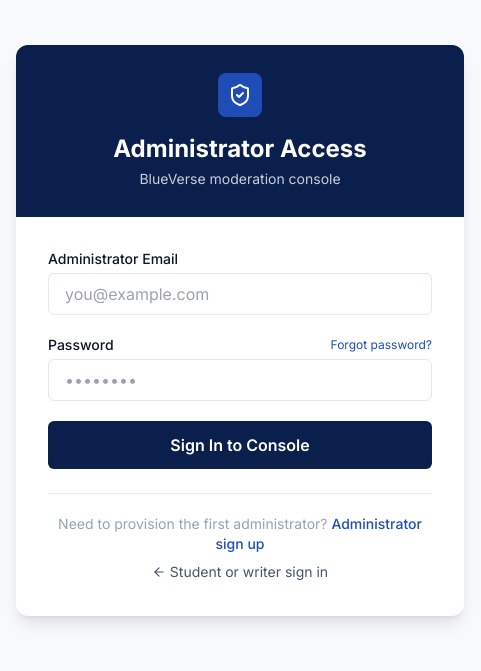
Test: AdminSignInPage › refuses to admit a student and drops the session
This screenshot has width=481, height=671.
Type "admin@example.com" into the field labelled "Administrator Email" at [240, 294], box [48,272,432,314]
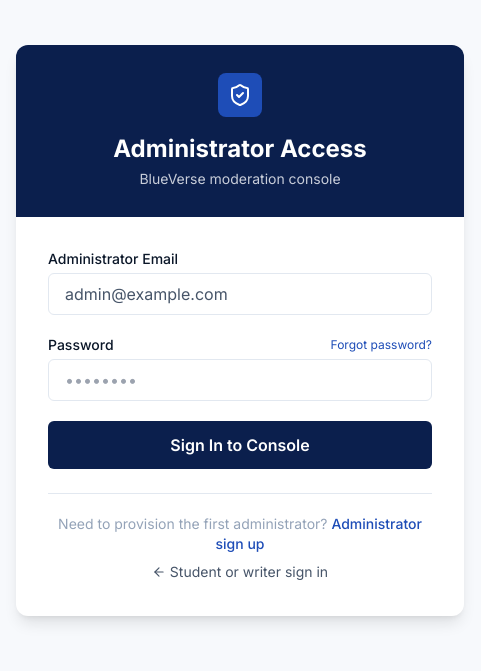
Type "a long enough password" into the password field labelled "Password" at [240, 380], box [48,358,432,400]
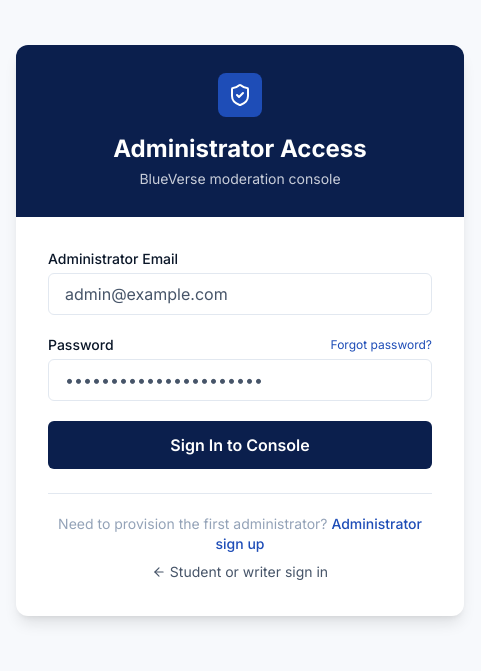
Click the button "Sign In to Console" at [240, 444], box [48,420,432,468]
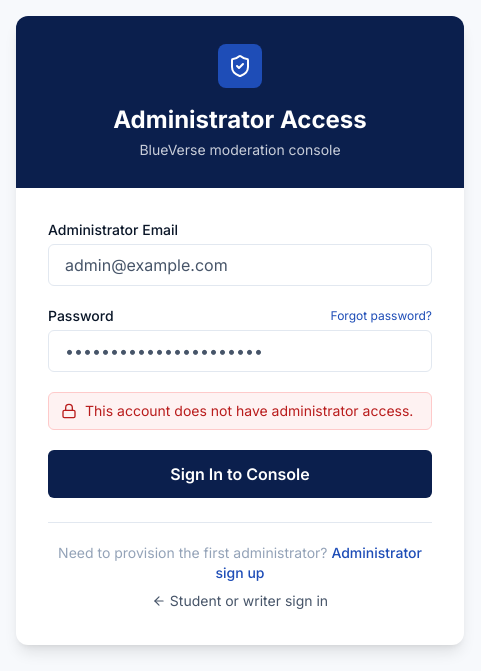
expect the message shows "does not have administrator access": met, box [85,402,413,418]
